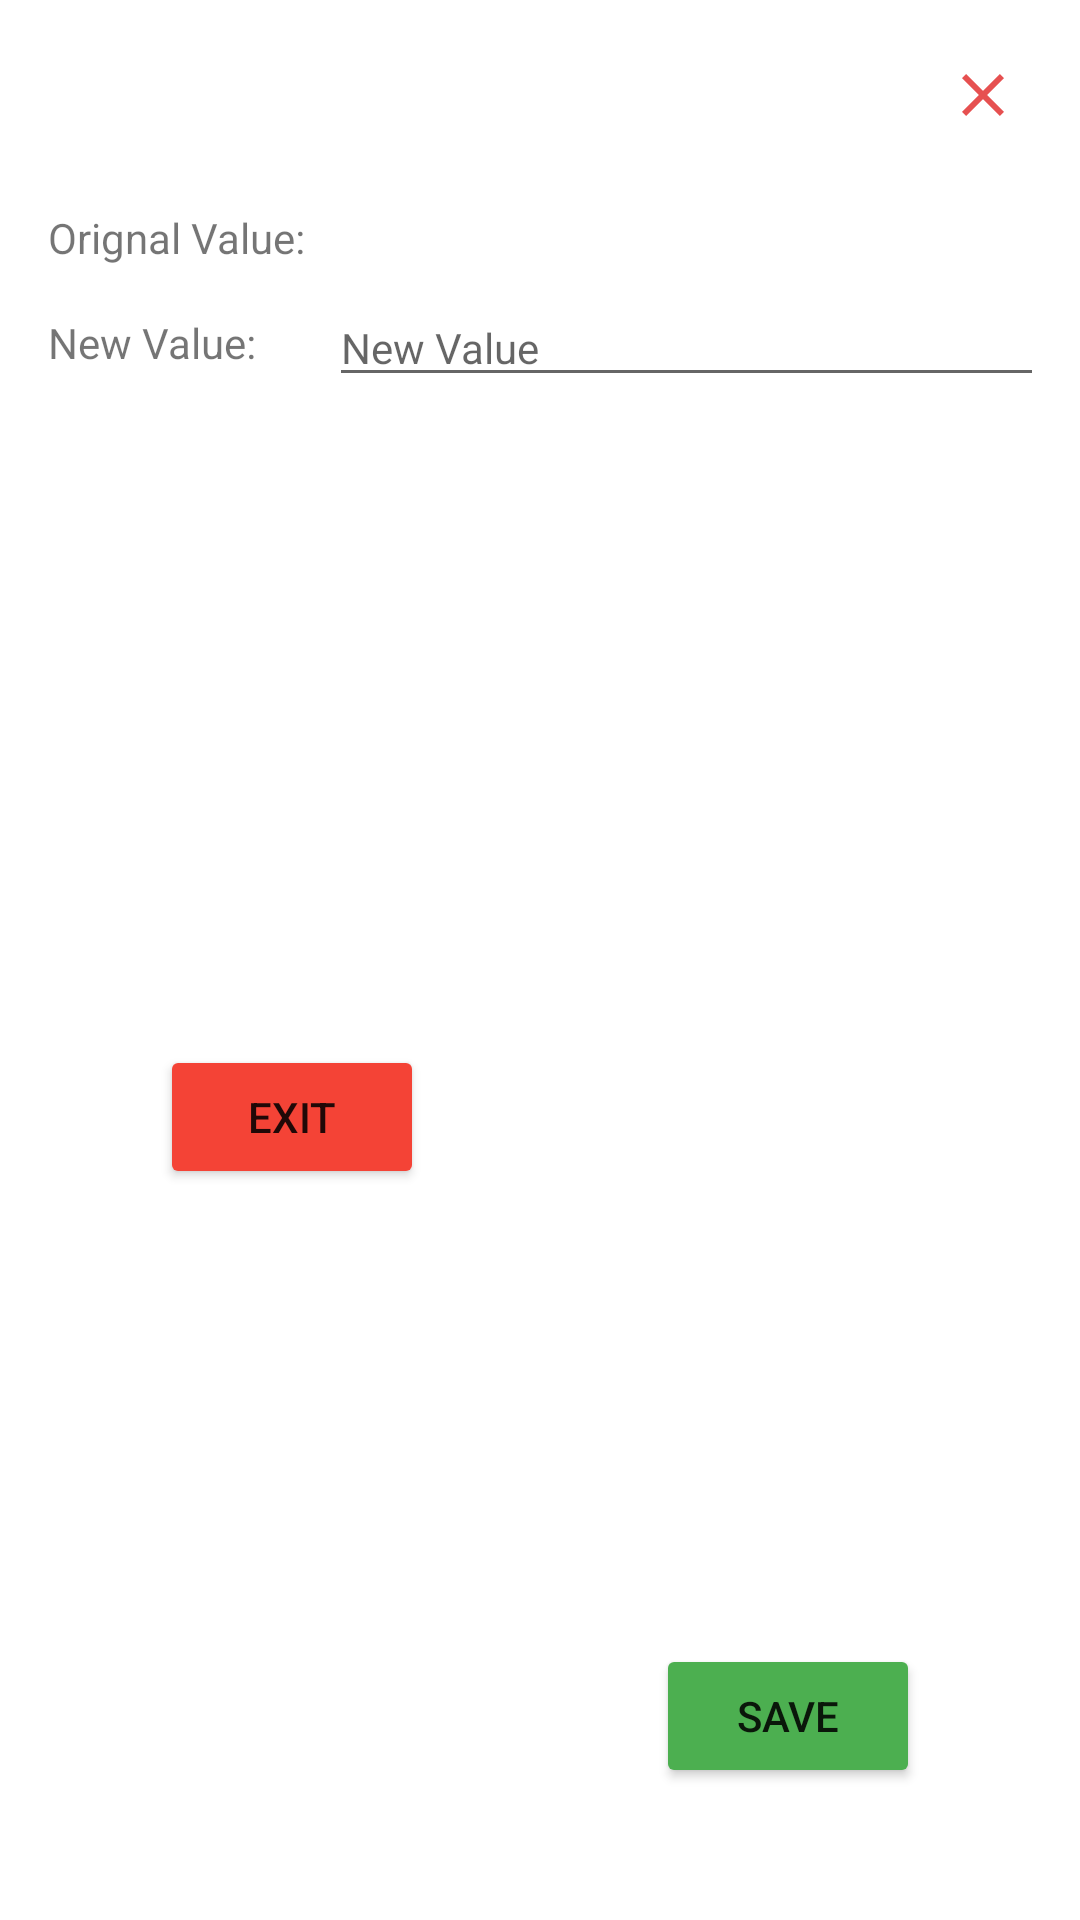

Screen size 1080w x 1920h. Icon name, then its box in pixels as (x1, y1, x2, y2):
exit: (962, 74, 1004, 116)
